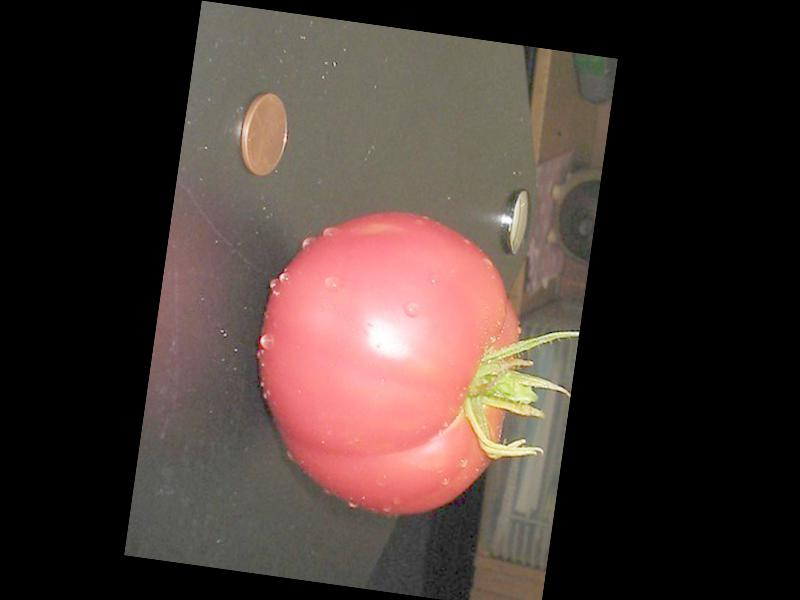Tomato: (238, 196, 535, 530)
